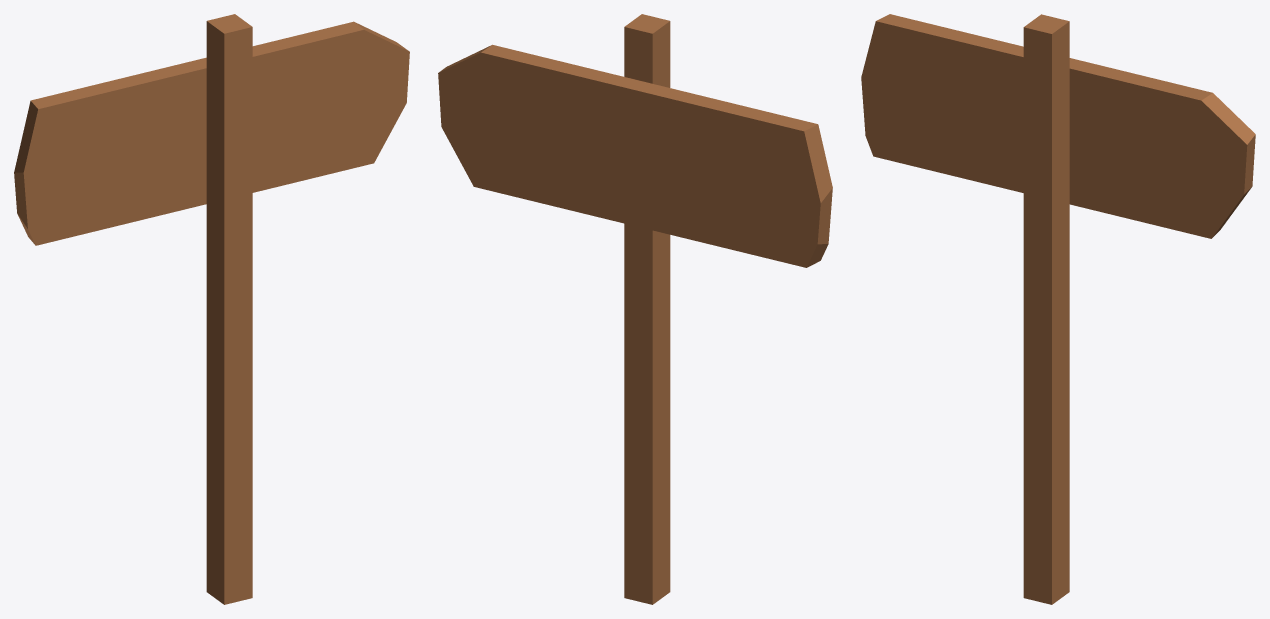
The model's file is sign.glb.
3 views of the same model, side by side, from view 1: azimuth 30°, elevation 25°; view 2: azimuth 150°, elevation 25°; view 3: azimuth 330°, elevation 25° (orthographic).
Parts seen in each view (by area): view 1: Cube; view 2: Cube; view 3: Cube.
Boxes of the visible parts, bbox=[...] form: Cube: bbox=[14, 14, 409, 604]; Cube: bbox=[438, 14, 832, 604]; Cube: bbox=[861, 14, 1255, 604].
Bounding box in the file's own units: 2.36 × 3.33 × 0.3162.
